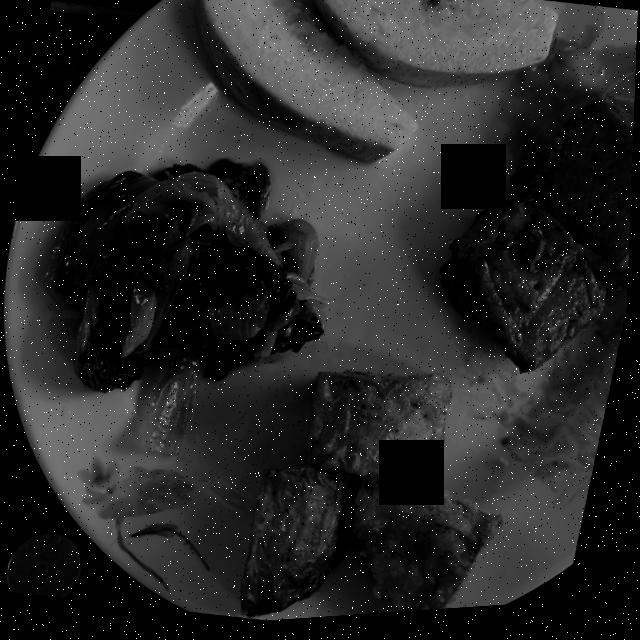coin: (10, 530, 86, 599)
creamy tofu: (441, 100, 635, 379)
fried potato: (245, 375, 507, 620)
guava -sliced-: (196, 0, 558, 166)
mustard greens: (45, 161, 333, 457)
